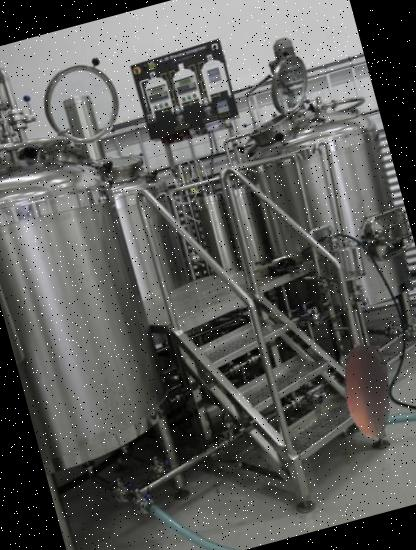Hazelnut: (308, 335, 416, 453)
